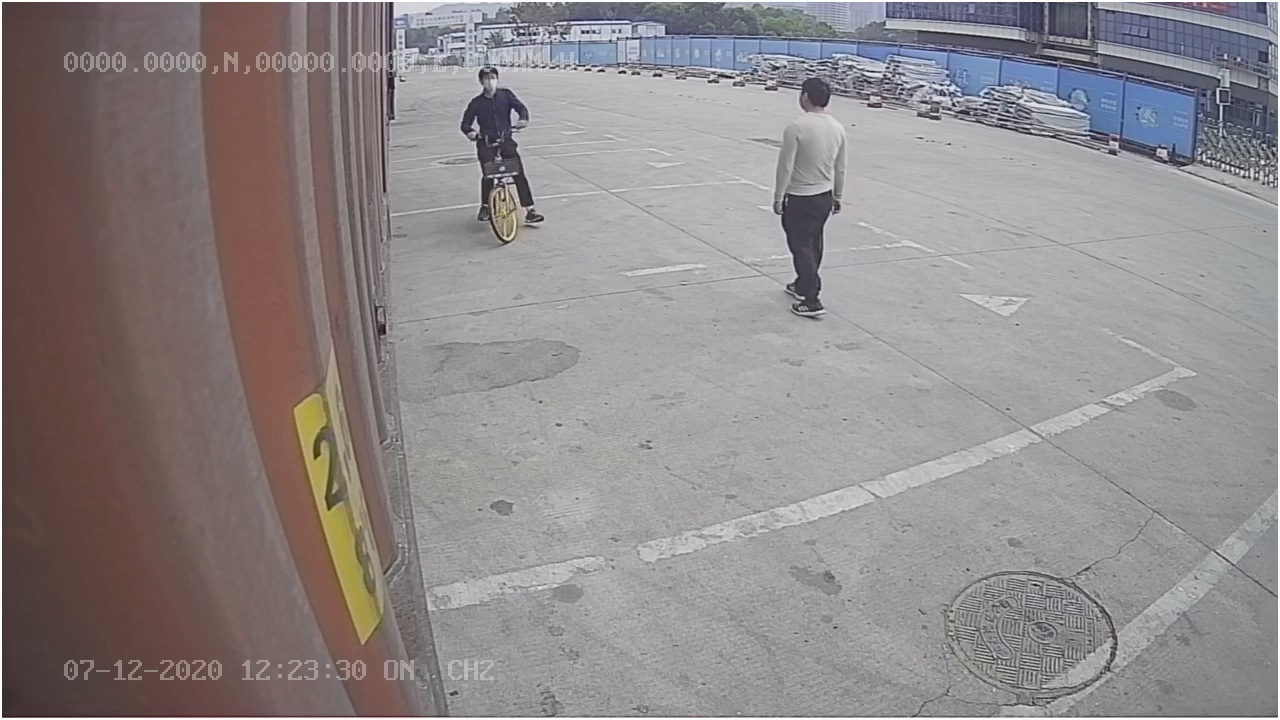person: (766, 73, 849, 325)
